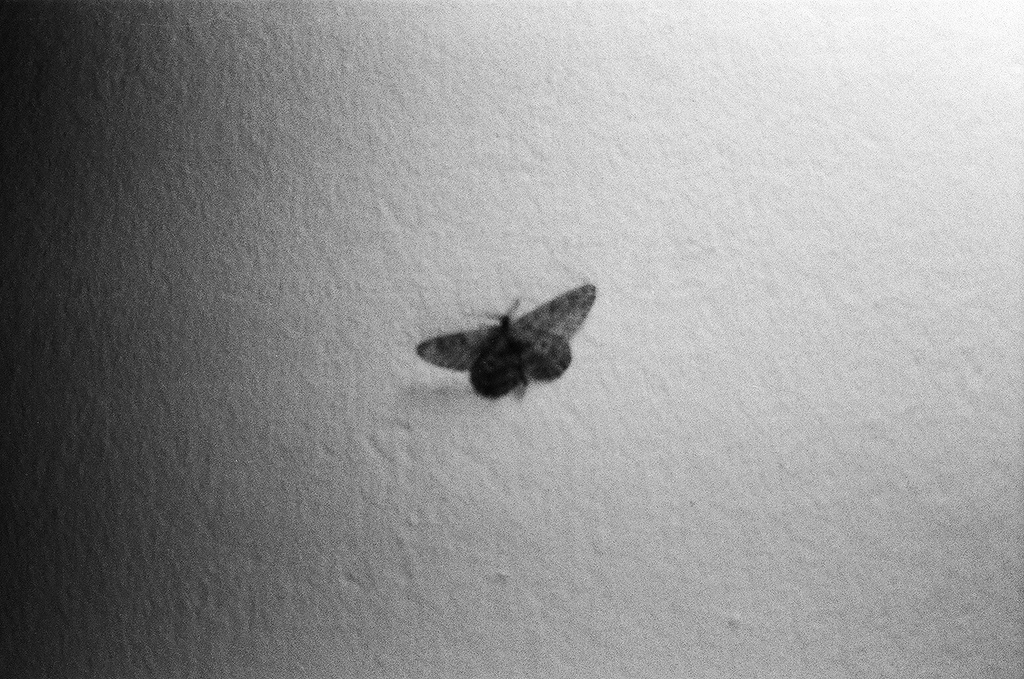Butterfly: (407, 276, 608, 417)
